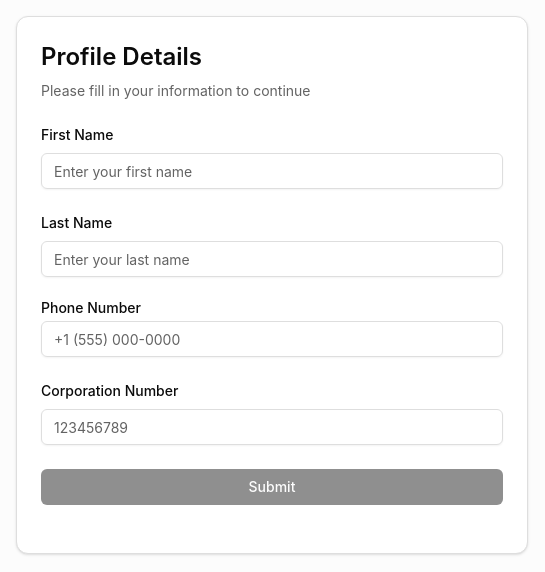
Advanced Interaction Issues › Corporation number message improvements › should show '9 digits' for wrong length/format
The width and height of the screenshot is (545, 572).
# Test various invalid formats that should show "9 digits"
Step 1. Type "123" into the field labelled "Corporation Number" → (272,427), box top-left (41, 409), bottom-right (503, 445)
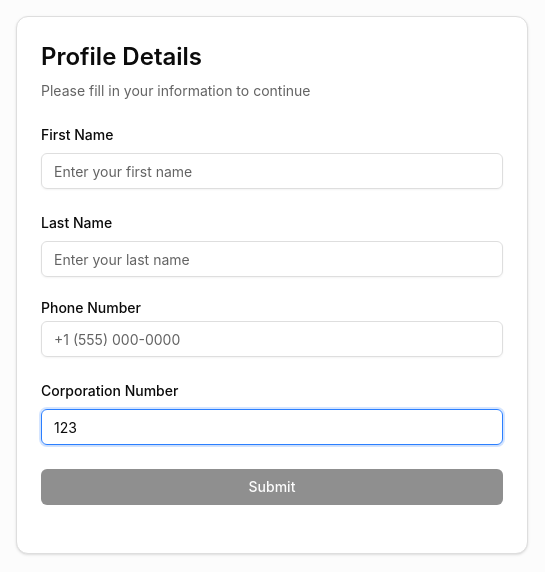
Step 2. Press Tab
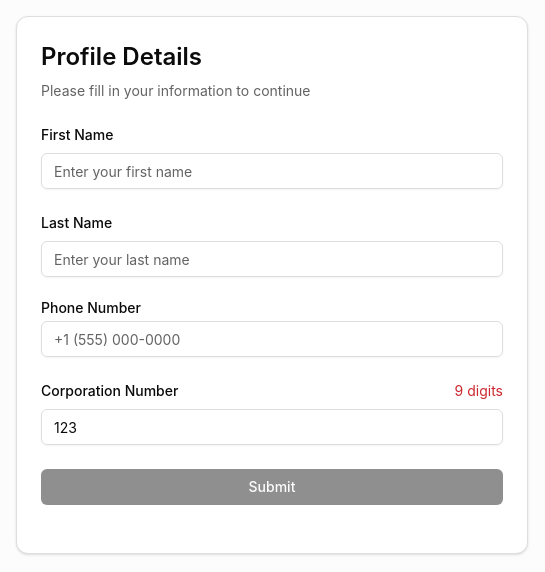
Expected: the text "9 digits" is shown, top-left (455, 381), bottom-right (503, 401)
